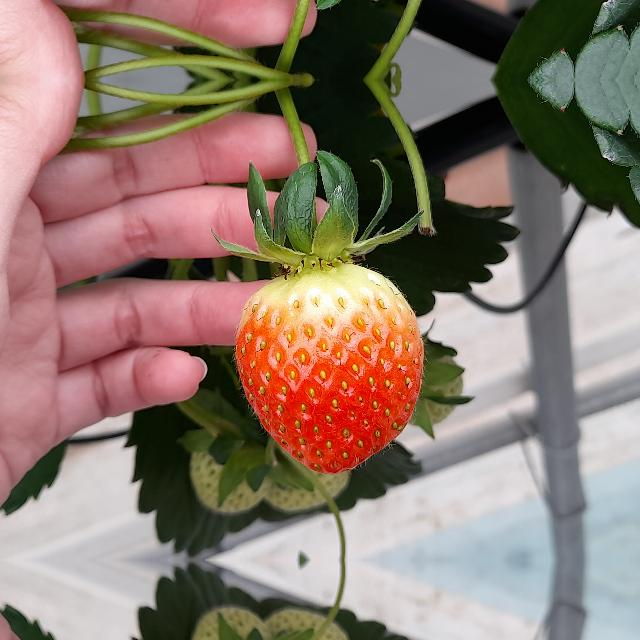Health_100: (235, 262, 423, 474)
